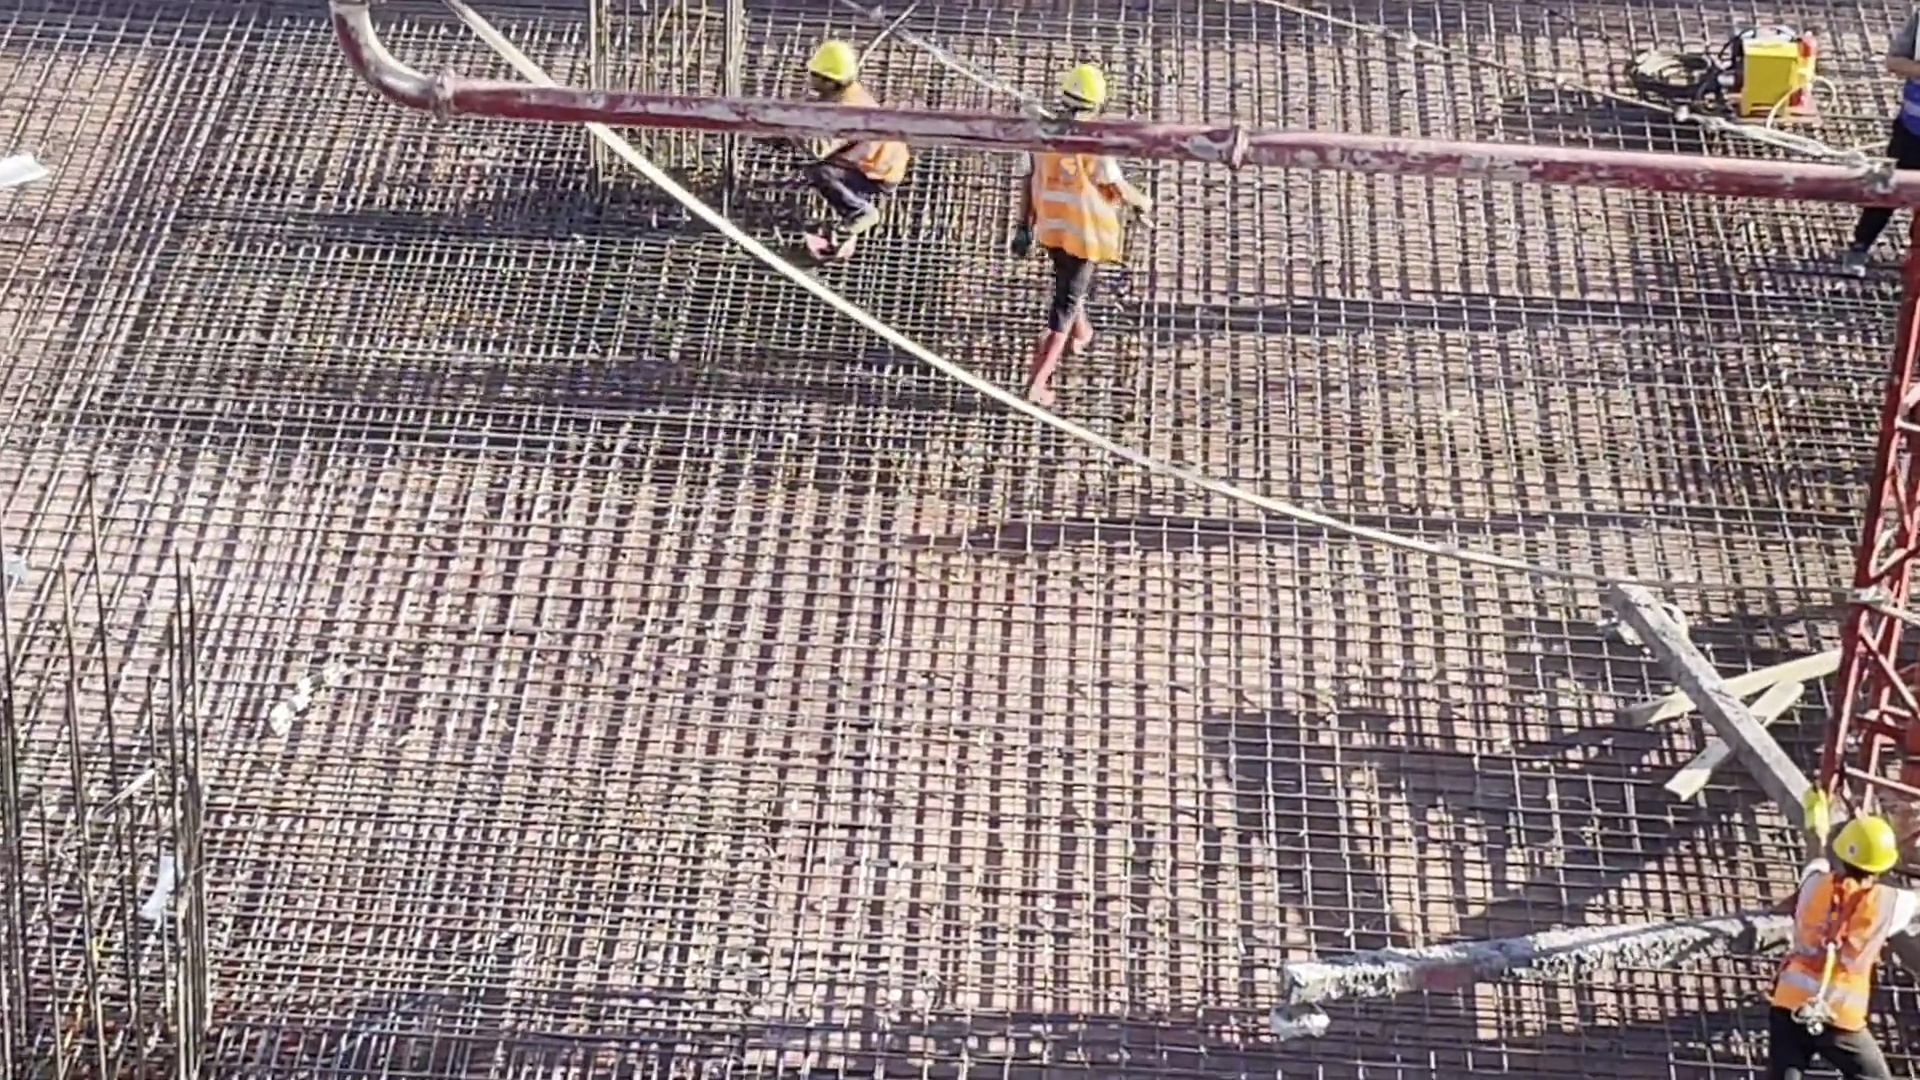helmet: (1831, 816, 1900, 885), (804, 43, 859, 79), (1067, 68, 1115, 107)
person: (1762, 784, 1920, 1080), (1006, 63, 1128, 424), (771, 41, 904, 269), (1838, 1, 1920, 283)
vest: (1782, 874, 1885, 1021), (1021, 137, 1120, 268), (835, 87, 904, 183), (1901, 32, 1920, 132)
